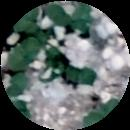Basil: (8, 36, 40, 74), (71, 0, 93, 32), (7, 69, 28, 98), (50, 5, 75, 26), (18, 10, 38, 34), (69, 68, 95, 85), (47, 46, 62, 73)
